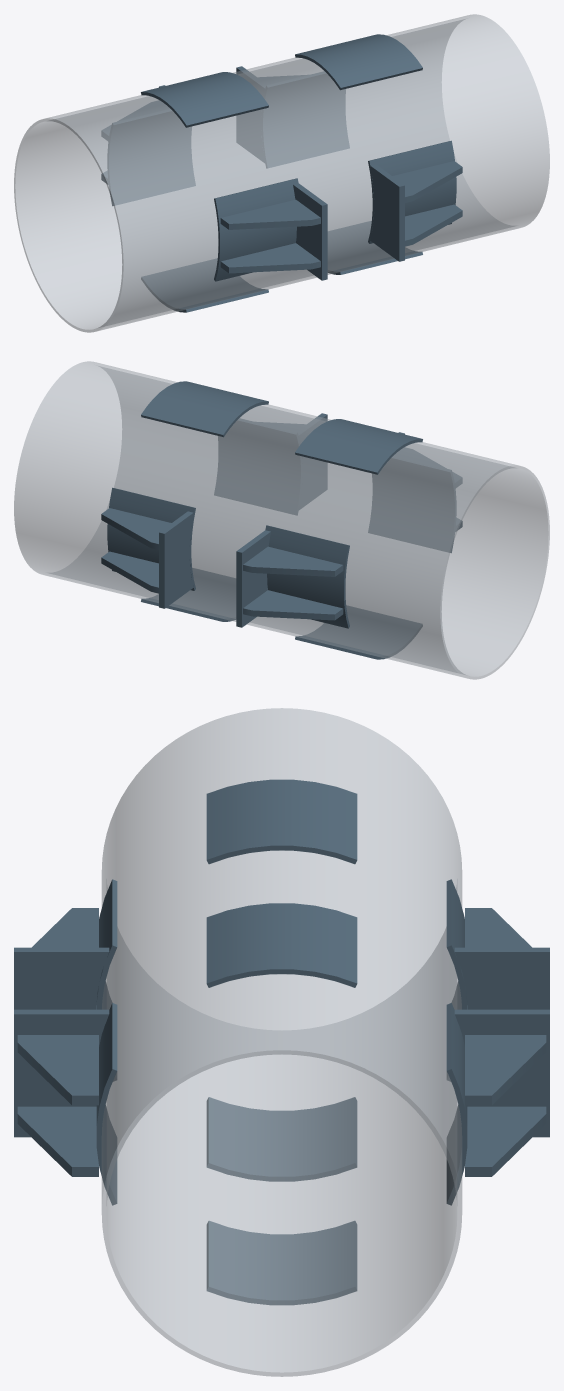
Rendered from TS-663.00.00-05-opora-dn530.glb.
3 renders of one model, top to bottom at view 1: azimuth 30°, elevation 25°; view 2: azimuth 150°, elevation 25°; view 3: azimuth 270°, elevation 25°, orthographic. The views are drawn at different scales.
Parts seen in each view (by area): view 1: truba, det_16, det_12, det_17, det_18, det_8, det_20, det_4, det_1, det_19, det_7, det_6 (+5 smaller); view 2: truba, det_8, det_4, det_17, det_18, det_16, det_20, det_12, det_9, det_19, det_14, det_15 (+5 smaller); view 3: truba, det_17, det_18, det_20, det_19, det_5, det_13, det_1, det_9, det_2, det_11, det_3 (+7 smaller).
Part boxes in pixels (<box>): truba: <box>14,14,549,332</box>; det_16: <box>107,109,195,205</box>; det_12: <box>261,71,349,167</box>; det_17: <box>295,34,422,90</box>; det_18: <box>141,72,268,127</box>; det_8: <box>214,178,298,281</box>; det_20: <box>141,259,268,312</box>; det_4: <box>368,140,456,243</box>; det_1: <box>370,164,404,261</box>; det_19: <box>328,221,422,274</box>; det_7: <box>220,243,320,273</box>; det_6: <box>220,199,320,229</box>; truba: <box>14,361,549,679</box>; det_8: <box>368,456,456,552</box>; det_4: <box>214,418,302,514</box>; det_17: <box>141,381,268,437</box>; det_18: <box>295,419,422,474</box>; det_16: <box>265,525,349,628</box>; det_20: <box>295,606,422,659</box>; det_12: <box>107,487,195,590</box>; det_9: <box>159,511,193,608</box>; det_19: <box>141,568,235,621</box>; det_14: <box>243,590,343,620</box>; det_15: <box>243,546,343,576</box>; truba: <box>101,708,462,1376</box>; det_17: <box>206,903,357,987</box>; det_18: <box>206,779,357,864</box>; det_20: <box>206,1097,357,1181</box>; det_19: <box>206,1221,357,1305</box>; det_5: <box>14,947,109,1009</box>; det_13: <box>454,947,549,1009</box>; det_1: <box>14,1009,109,1137</box>; det_9: <box>454,1009,549,1137</box>; det_2: <box>17,1035,98,1105</box>; det_11: <box>465,1035,546,1105</box>; det_3: <box>17,1106,98,1176</box>.
Size of the model in its own units: 1190 by 545 by 788.
